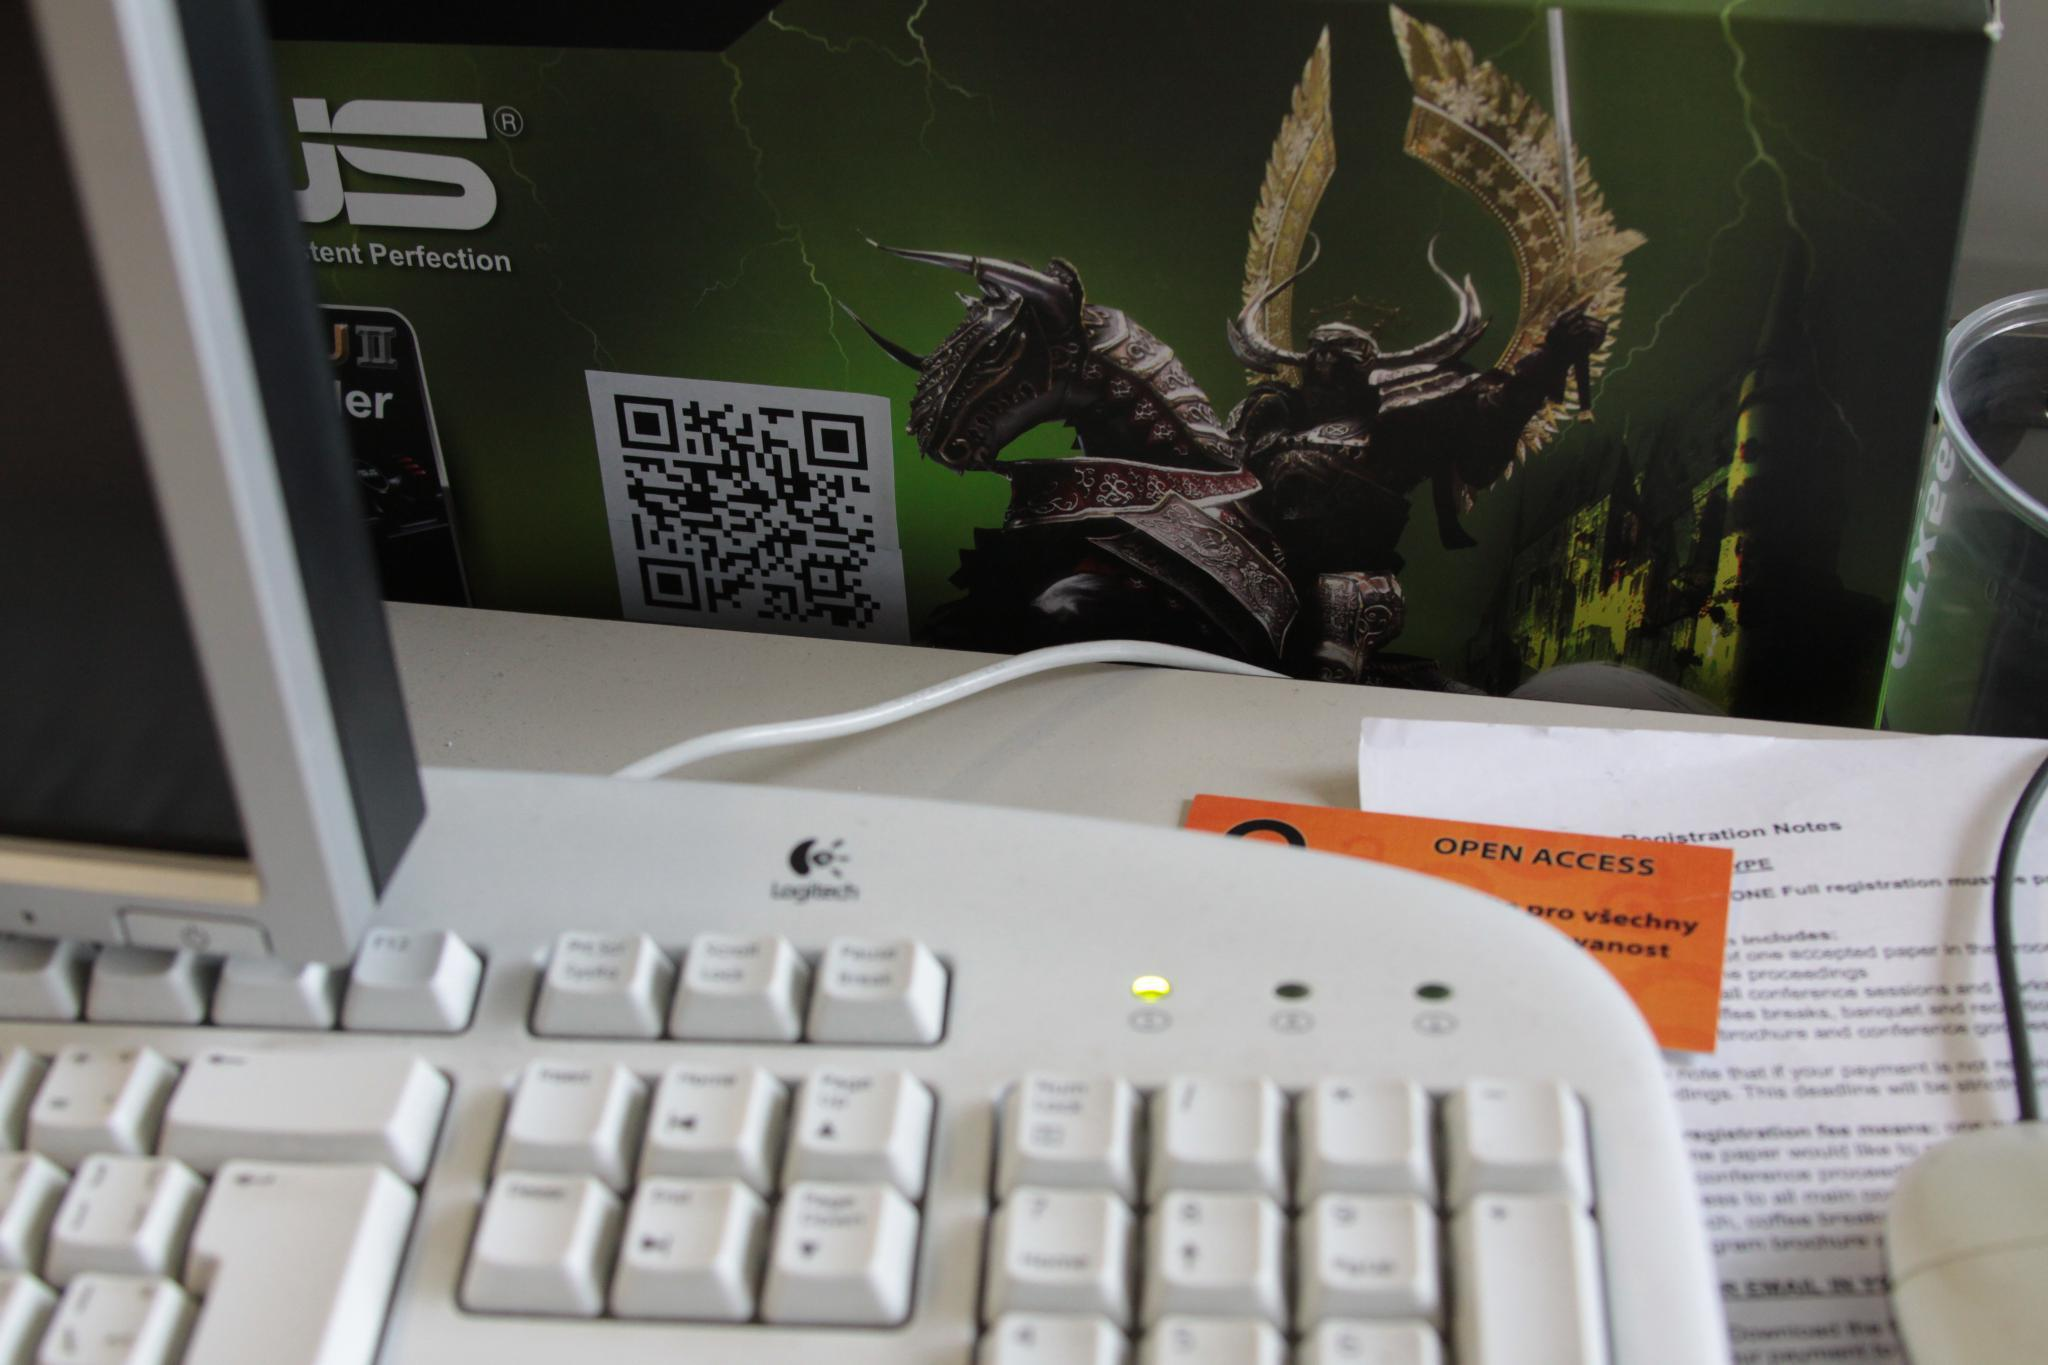qr_code: (612, 393, 883, 632)
